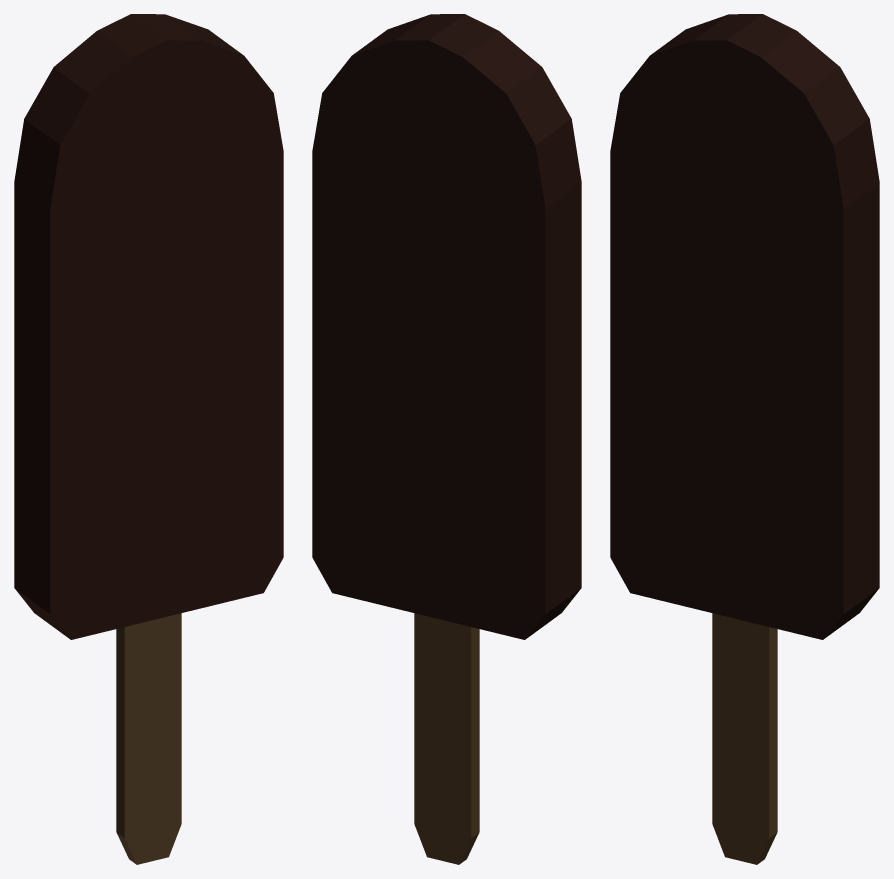
Rendered from Popsicle_Chocolate.obj.
3 views of the same model, side by side, from view 1: azimuth 30°, elevation 25°; view 2: azimuth 150°, elevation 25°; view 3: azimuth 330°, elevation 25° (orthographic).
Visible parts, largest first — view 1: Popsicle_Chocolate_Cube.030; view 2: Popsicle_Chocolate_Cube.030; view 3: Popsicle_Chocolate_Cube.030.
Part boxes in pixels (<box>): Popsicle_Chocolate_Cube.030: <box>14,14,283,864</box>; Popsicle_Chocolate_Cube.030: <box>312,14,581,864</box>; Popsicle_Chocolate_Cube.030: <box>610,14,879,864</box>.
Bounding box in the file's own units: 0.2911 × 0.99 × 0.0798.
